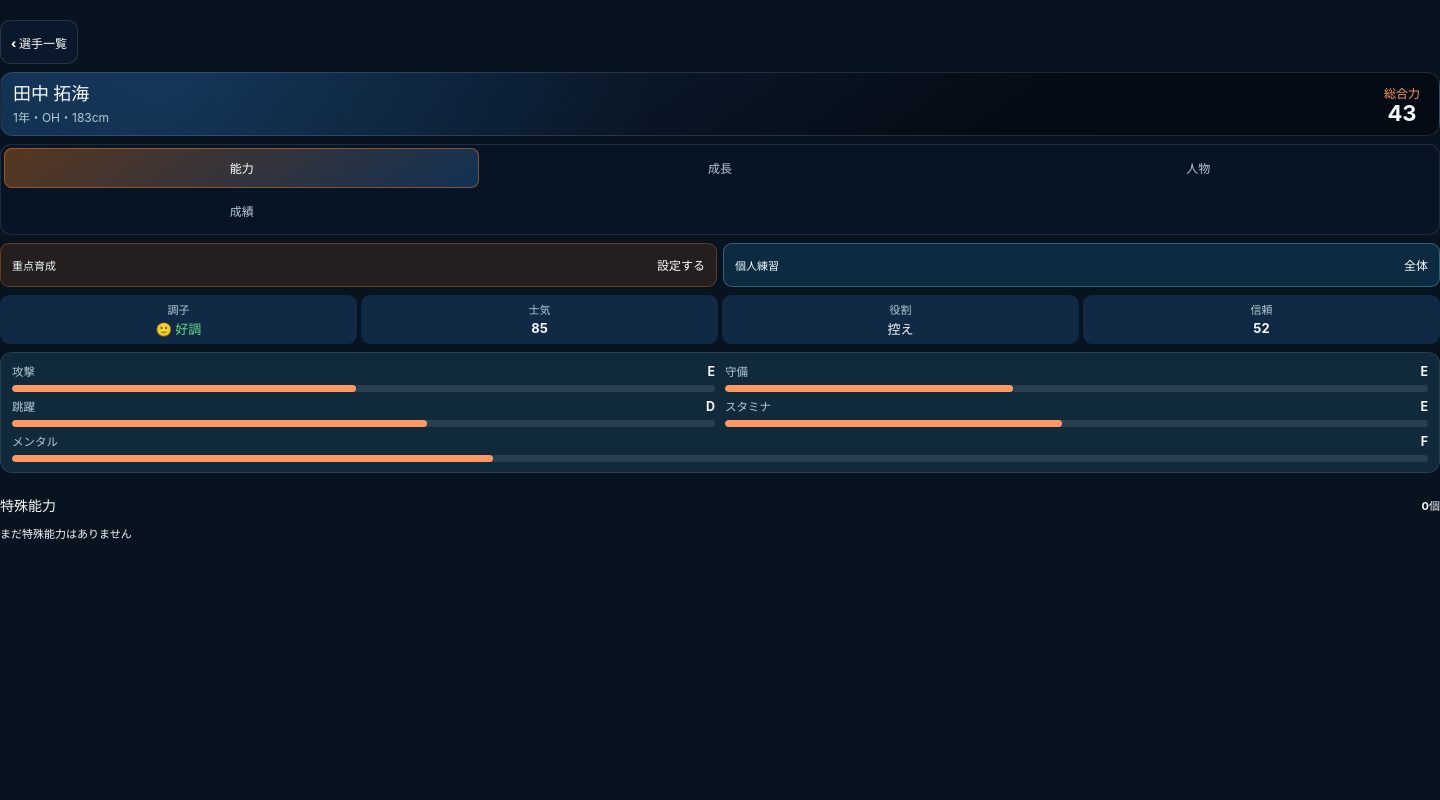
Test: Phase21 Player Hub relationships › shows teammate affinity, accessible gauge, and special relationship tags
The image size is (1440, 800).
Click the button "人物".
click(1198, 168)  # box 961,148 -> 1436,188
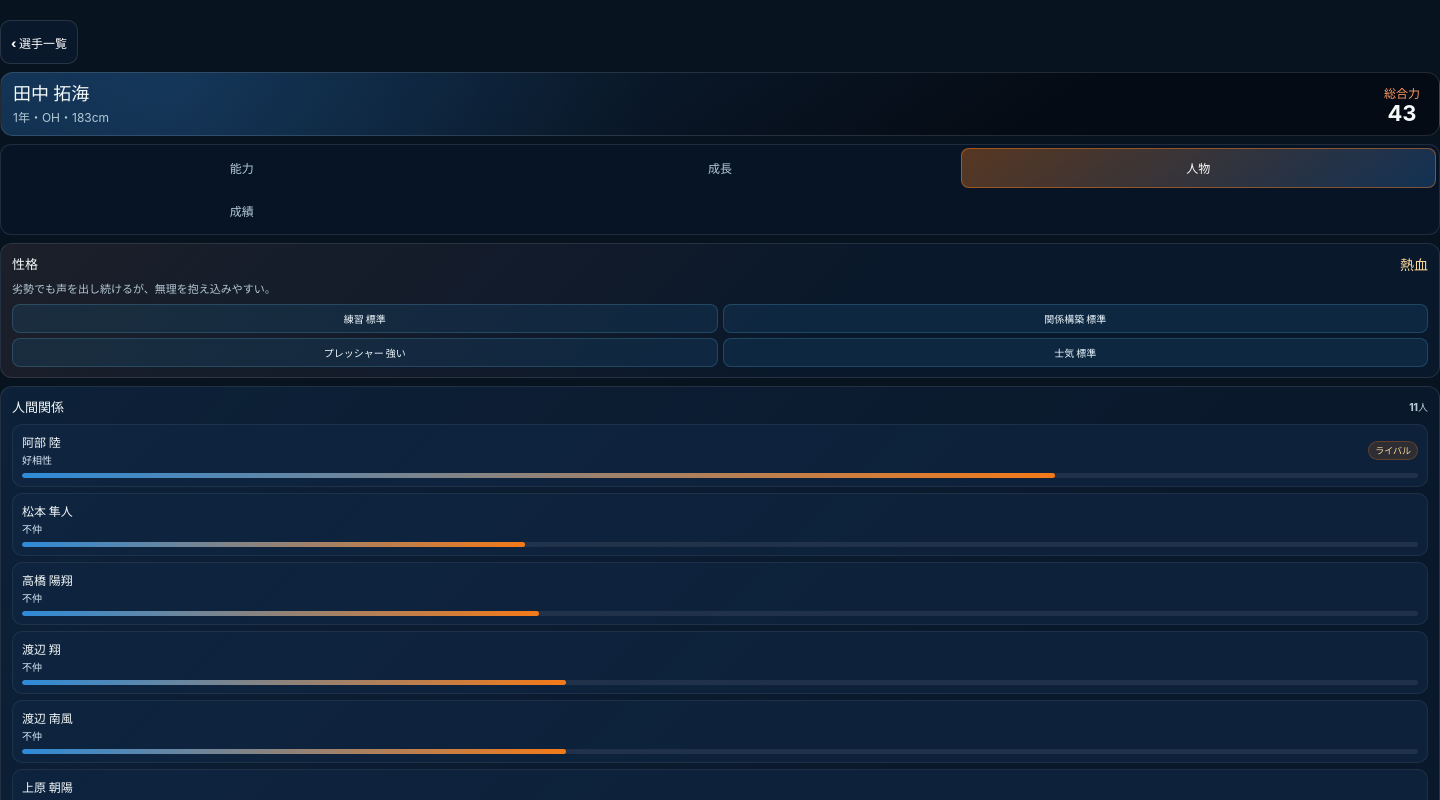
Check: the heading "人間関係" is shown, box 12,397 -> 64,416
